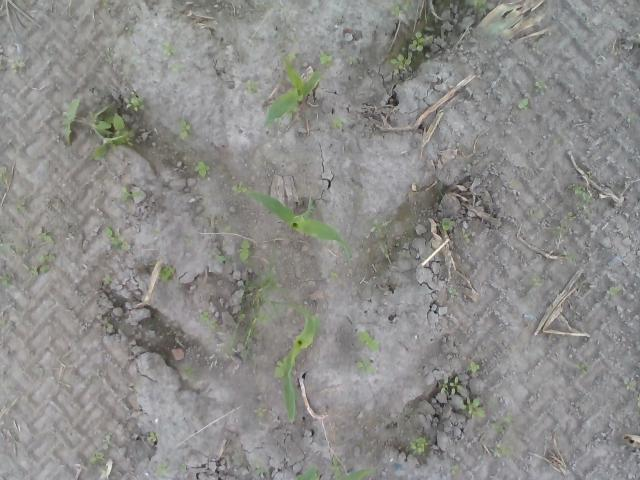Maize: (246, 188, 354, 264), (280, 300, 321, 424), (265, 65, 320, 128), (296, 462, 372, 480)
Weeds: (61, 92, 146, 162), (238, 255, 290, 308), (228, 308, 272, 368), (22, 248, 56, 276), (368, 219, 392, 258), (388, 45, 414, 75), (567, 183, 594, 210), (458, 394, 486, 419), (354, 328, 380, 352), (406, 30, 434, 52), (436, 373, 464, 394), (488, 16, 512, 40), (406, 434, 430, 456), (384, 0, 414, 17), (119, 184, 140, 206), (623, 376, 640, 402), (198, 310, 219, 331), (491, 414, 513, 434), (9, 55, 26, 80), (462, 0, 489, 15), (104, 225, 121, 248), (158, 264, 177, 282), (194, 158, 211, 178), (176, 119, 193, 139), (240, 237, 252, 264), (14, 198, 32, 216), (354, 358, 377, 372), (488, 444, 511, 458), (208, 248, 227, 264), (36, 228, 56, 243), (153, 462, 170, 479), (160, 38, 176, 56), (318, 50, 334, 68), (100, 431, 114, 451), (244, 78, 261, 94), (232, 182, 253, 194), (577, 358, 591, 376), (0, 271, 13, 290), (280, 50, 296, 65), (440, 216, 456, 231), (560, 250, 578, 263), (562, 210, 578, 224), (100, 272, 114, 288), (89, 452, 106, 465), (102, 46, 113, 66), (466, 360, 480, 375), (100, 318, 114, 332), (0, 242, 15, 255), (252, 406, 268, 418), (535, 77, 545, 96), (331, 114, 344, 128), (254, 463, 268, 476), (447, 286, 457, 304), (168, 63, 185, 73), (530, 272, 542, 286), (0, 165, 8, 185), (626, 112, 636, 128), (609, 286, 623, 297), (180, 366, 192, 378), (146, 431, 158, 443), (516, 98, 528, 110), (450, 463, 463, 474), (347, 55, 361, 65), (176, 462, 187, 474), (127, 22, 137, 34), (552, 135, 562, 146), (128, 382, 138, 392), (223, 223, 233, 233), (328, 271, 338, 280), (464, 232, 473, 241), (586, 170, 592, 181)
